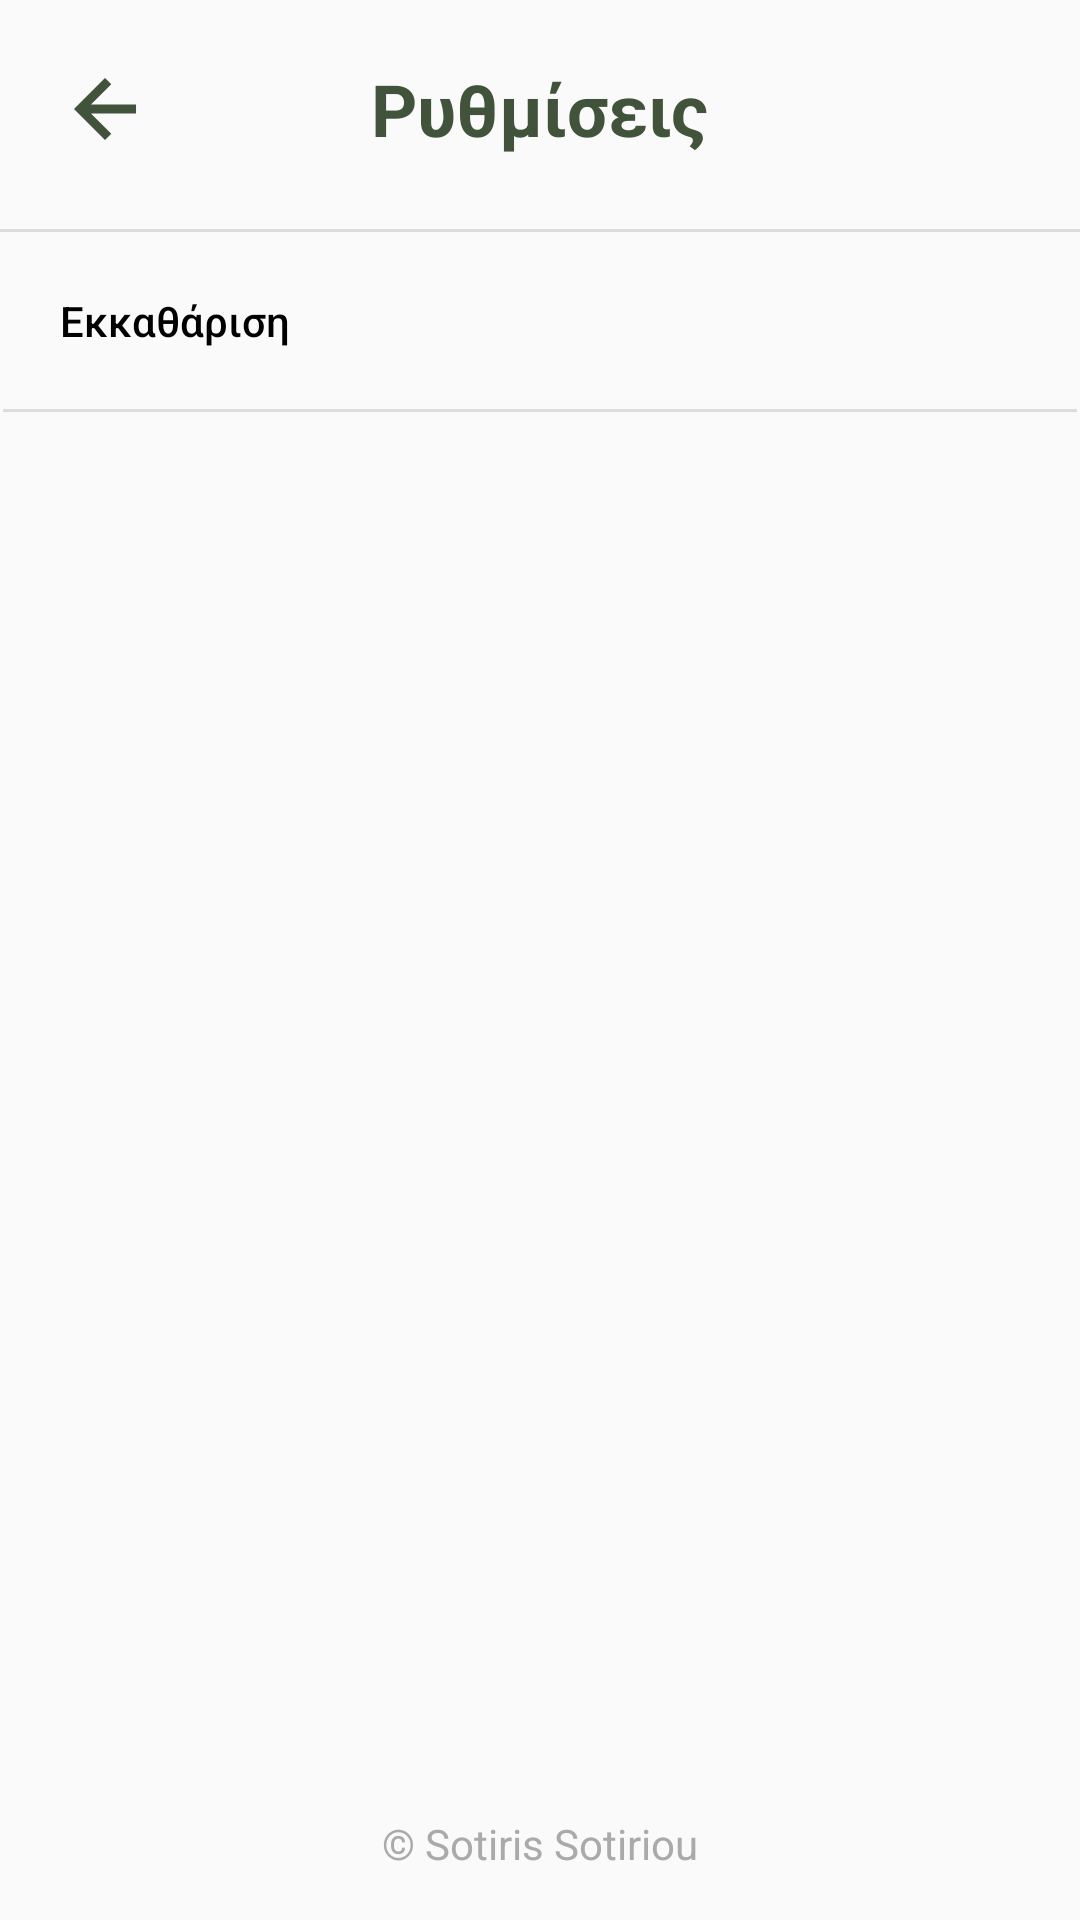

Icons on this 1080px x 1920px Android screen, each with the point to tap as (x,y):
arrow back: (105,109)
